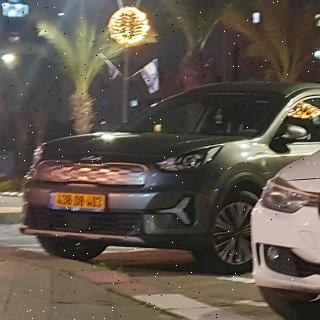LicensePlate: (55, 193, 105, 209)
